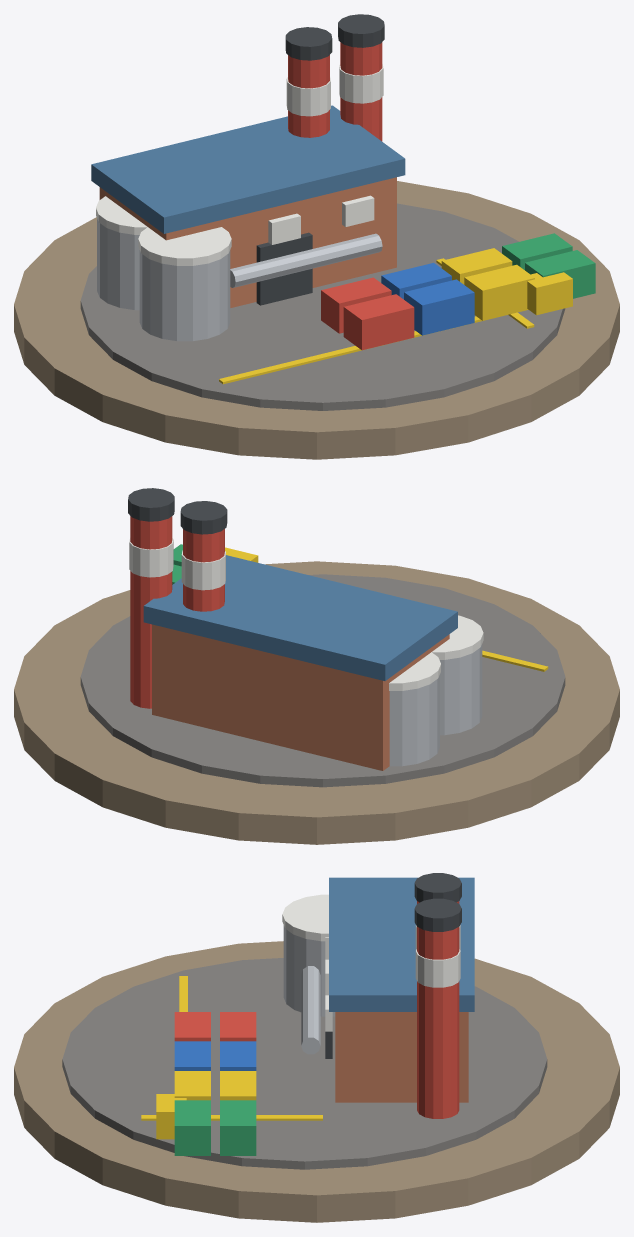
Rendered from industry.glb.
3 renders of one model, top to bottom at view 1: azimuth 30°, elevation 25°; view 2: azimuth 150°, elevation 25°; view 3: azimuth 270°, elevation 25°, orthographic.
Parts seen in each view (by area): view 1: ind_base, ind_yard, ind_roof, ind_hall, ind_tank_1, ind_tank_0, ind_cont_4, ind_pipe, ind_cont_5, ind_tank_top_1, ind_cont_6, ind_chimney_1 (+16 smaller); view 2: ind_base, ind_yard, ind_hall, ind_roof, ind_chimney_1, ind_tank_0, ind_tank_1, ind_chimney_0, ind_chim_top_0, ind_chim_top_1, ind_tank_top_1, ind_chim_band_0 (+2 smaller); view 3: ind_base, ind_yard, ind_roof, ind_hall, ind_chimney_1, ind_tank_1, ind_cont_3, ind_cont_7, ind_tank_top_1, ind_pipe, ind_chim_top_1, ind_chim_band_1 (+9 smaller).
Part boxes in pixels (x1=…): ind_base: x1=14, y1=181, x2=619, y2=459; ind_yard: x1=80, y1=203, x2=565, y2=410; ind_roof: x1=91, y1=105, x2=405, y2=233; ind_hall: x1=99, y1=177, x2=396, y2=307; ind_tank_1: x1=139, y1=250, x2=230, y2=341; ind_tank_0: x1=97, y1=218, x2=139, y2=310; ind_cont_4: x1=343, y1=294, x2=414, y2=350; ind_pipe: x1=230, y1=233, x2=382, y2=287; ind_cont_5: x1=404, y1=279, x2=474, y2=335; ind_tank_top_1: x1=138, y1=227, x2=231, y2=265; ind_cont_6: x1=464, y1=264, x2=534, y2=320; ind_chimney_1: x1=340, y1=42, x2=382, y2=141; ind_base: x1=14, y1=561, x2=619, y2=844; ind_yard: x1=80, y1=574, x2=565, y2=787; ind_hall: x1=152, y1=624, x2=449, y2=770; ind_roof: x1=143, y1=555, x2=457, y2=680; ind_chimney_1: x1=130, y1=516, x2=172, y2=708; ind_tank_0: x1=389, y1=675, x2=439, y2=766; ind_tank_1: x1=439, y1=644, x2=482, y2=735; ind_chimney_0: x1=183, y1=529, x2=224, y2=611; ind_chim_top_0: x1=180, y1=501, x2=227, y2=534; ind_chim_top_1: x1=128, y1=488, x2=174, y2=521; ind_tank_top_1: x1=431, y1=615, x2=483, y2=659; ind_chim_band_0: x1=181, y1=550, x2=225, y2=590; ind_base: x1=14, y1=941, x2=619, y2=1222; ind_yard: x1=62, y1=958, x2=547, y2=1169; ind_roof: x1=329, y1=877, x2=474, y2=1011; ind_hall: x1=335, y1=1012, x2=468, y2=1102; ind_chimney_1: x1=417, y1=927, x2=459, y2=1118; ind_tank_1: x1=283, y1=925, x2=335, y2=1016; ind_cont_3: x1=220, y1=1100, x2=256, y2=1155; ind_cont_7: x1=174, y1=1100, x2=210, y2=1155; ind_tank_top_1: x1=282, y1=894, x2=328, y2=941; ind_pipe: x1=301, y1=966, x2=320, y2=1054; ind_chim_top_1: x1=414, y1=898, x2=461, y2=931; ind_chim_band_1: x1=415, y1=949, x2=460, y2=987.
Size of the model in its own units: 1 by 0.4325 by 1.
